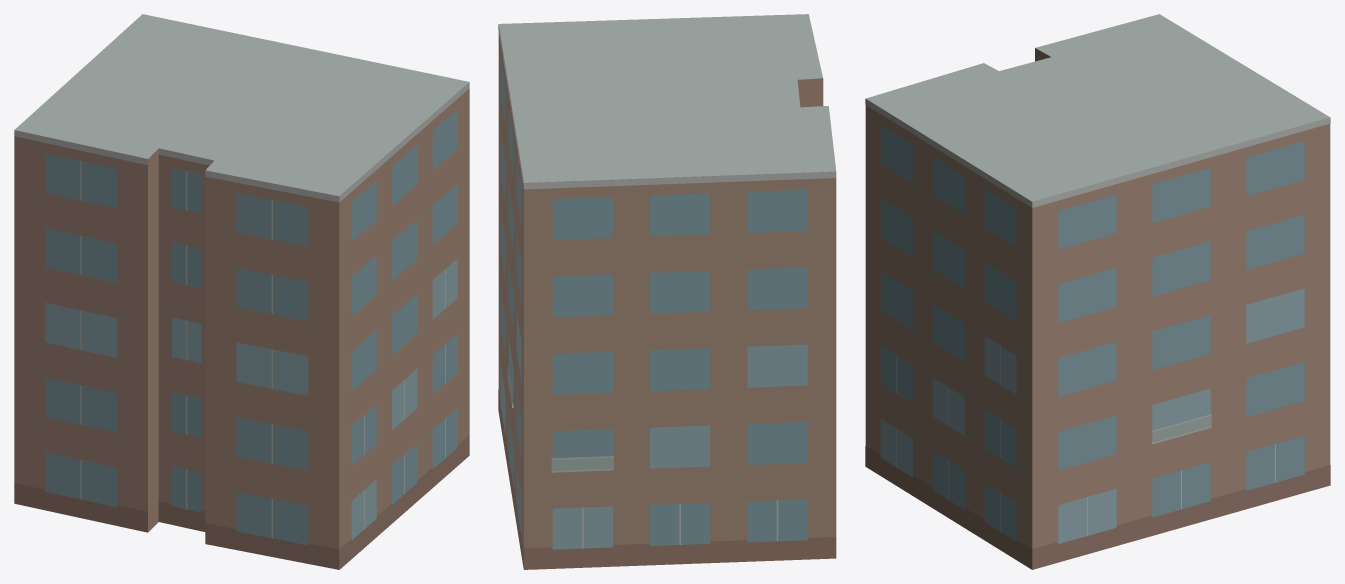
File: survey-upis-32883434.glb
3 renders of one model, left to right at view 1: azimuth 30°, elevation 25°; view 2: azimuth 150°, elevation 25°; view 3: azimuth 270°, elevation 25°, orthographic. The views are drawn at different scales.
Parts seen in each view (by area): view 1: survey-upis-32883434.tmp; view 2: survey-upis-32883434.tmp; view 3: survey-upis-32883434.tmp.
Part boxes in pixels (bbox=[...]): survey-upis-32883434.tmp: bbox=[14, 14, 469, 569]; survey-upis-32883434.tmp: bbox=[498, 14, 836, 569]; survey-upis-32883434.tmp: bbox=[865, 14, 1330, 569].
Size of the model in its own units: 15.99 by 14.6 by 16.72.
